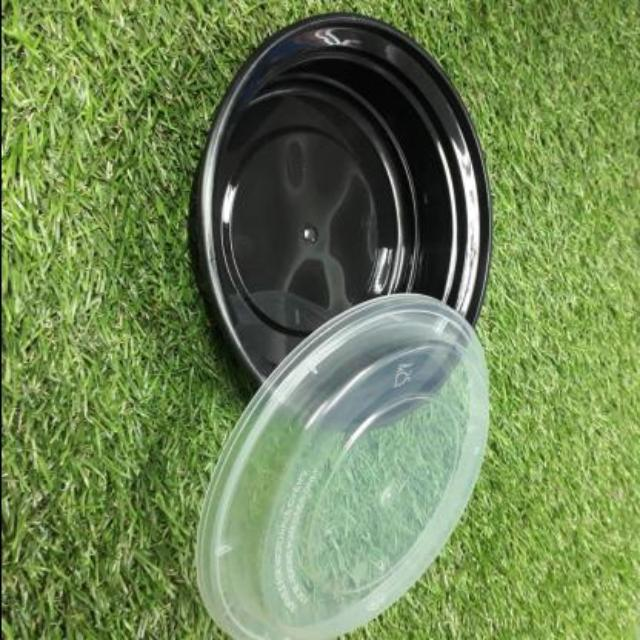plastic_box: (185, 11, 491, 426)
